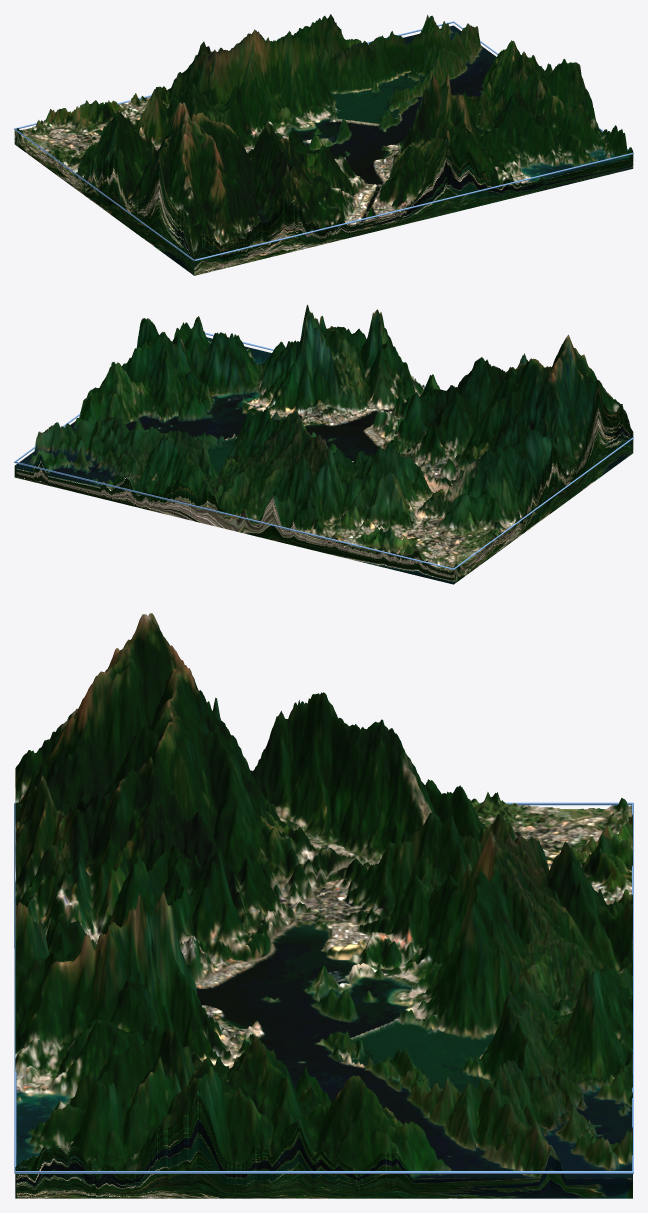
File: hk-gee-terrain-model.glb
The picture shows the model from 3 angles, top to bottom: view 1: azimuth 30°, elevation 25°; view 2: azimuth 150°, elevation 25°; view 3: azimuth 270°, elevation 25°; orthographic projection. The views are drawn at different scales.
Visible parts, largest first — view 1: sentinel2-draped-terrain, study-area-frame; view 2: sentinel2-draped-terrain, study-area-frame; view 3: sentinel2-draped-terrain, study-area-frame.
Part boxes in pixels (box(x1,y1,x2,y2)): sentinel2-draped-terrain: box(14, 14, 633, 275); study-area-frame: box(14, 21, 633, 261); sentinel2-draped-terrain: box(14, 304, 633, 584); study-area-frame: box(14, 332, 633, 569); sentinel2-draped-terrain: box(15, 613, 632, 1198); study-area-frame: box(14, 802, 633, 1173).
Size of the model in its own units: 7.22 by 2.18 by 5.12.
2 materials, 1 textured.
